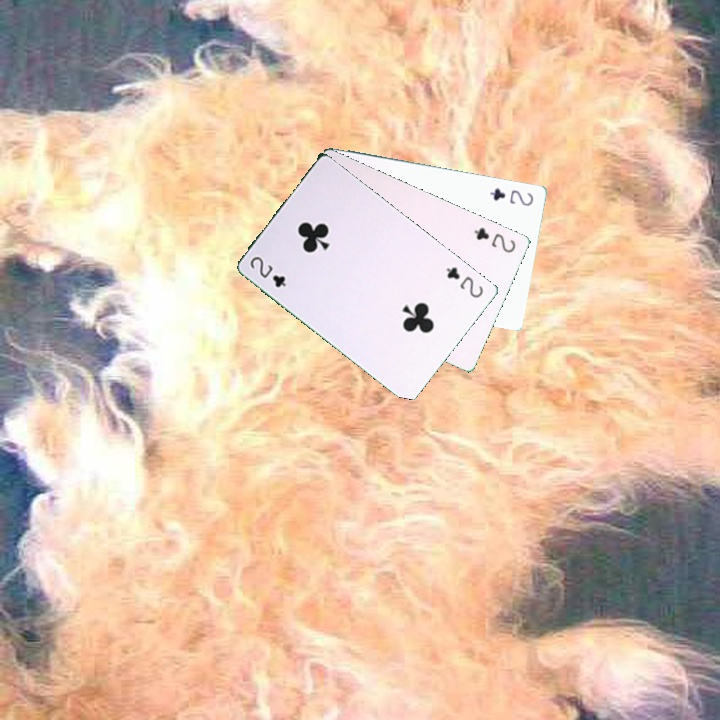2c: (442, 263, 486, 301), (246, 252, 289, 290), (470, 223, 518, 256), (486, 184, 536, 209)
